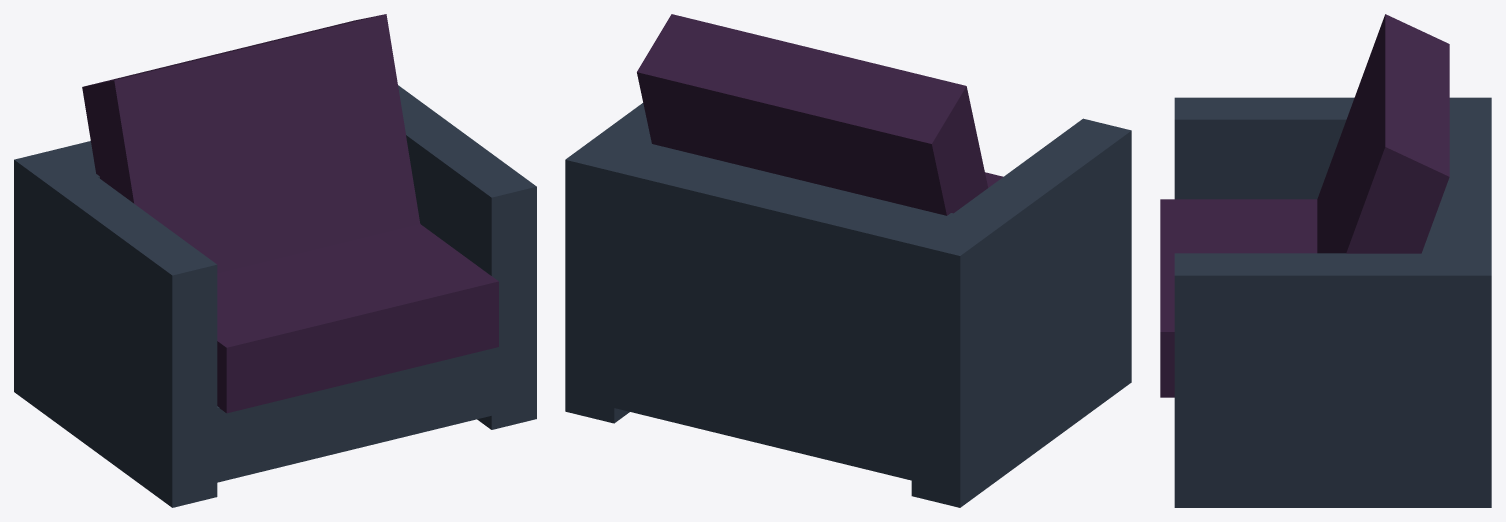
The model's file is Armchair.fbx.
3 renders of one model, left to right at view 1: azimuth 30°, elevation 25°; view 2: azimuth 150°, elevation 25°; view 3: azimuth 270°, elevation 25°, orthographic. The views are drawn at different scales.
Visible parts, largest first — view 1: Cube; view 2: Cube; view 3: Cube.
Part boxes in pixels (x1,y1,x2,y2): Cube: (14,14,536,507); Cube: (565,14,1131,507); Cube: (1160,14,1491,507).
Bounding box in the file's own units: 266 × 236 × 209.
